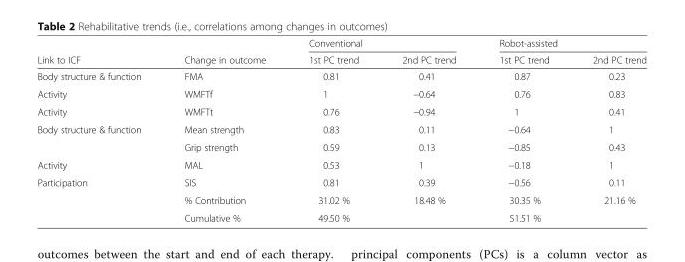table: (36, 37, 646, 223)
table column: (36, 37, 162, 223), (162, 37, 286, 223), (379, 37, 477, 223), (286, 37, 379, 223), (477, 37, 570, 223), (570, 37, 646, 223)
table column header: (36, 37, 646, 67)
table row: (36, 84, 646, 102), (36, 102, 646, 120), (36, 137, 646, 155), (36, 155, 646, 173), (36, 173, 646, 191), (36, 67, 646, 84), (36, 120, 646, 137), (36, 191, 646, 208), (36, 51, 646, 67), (36, 208, 646, 223), (36, 37, 646, 51)
table spanning cell: (36, 173, 162, 223), (36, 120, 162, 155), (36, 37, 162, 67), (162, 37, 286, 67), (286, 208, 477, 223), (286, 37, 477, 51), (477, 208, 646, 223), (477, 37, 646, 51)
